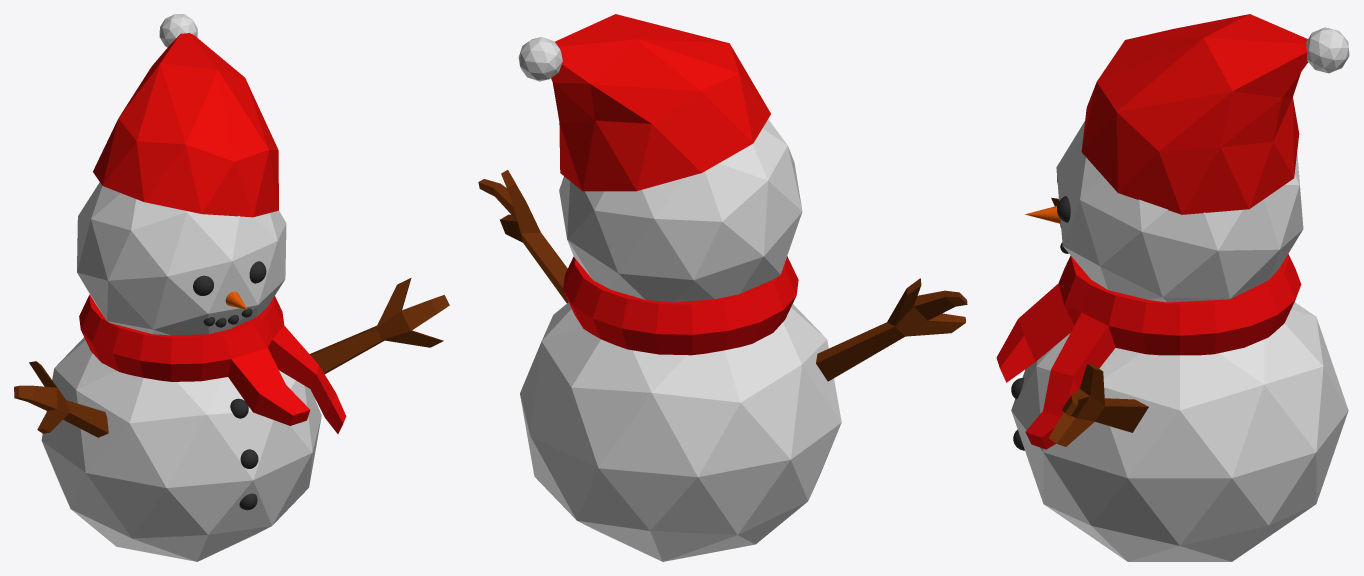
The model's file is snowman.fbx.
3 views of the same model, side by side, from view 1: azimuth 30°, elevation 25°; view 2: azimuth 150°, elevation 25°; view 3: azimuth 270°, elevation 25° (orthographic). The views are drawn at different scales.
Visible parts, largest first — view 1: Икосфера, Икосфера.002, Икосфера.001, Torus.002, Куб, Сфера.003, Икосфера.003; view 2: Икосфера, Икосфера.002, Икосфера.001, Torus.002, Куб, Икосфера.003; view 3: Икосфера, Икосфера.002, Икосфера.001, Torus.002, Куб, Икосфера.003, Сфера.003.
Boxes of the visible parts, <box> form: Икосфера: <box>41,337,321,561</box>; Икосфера.002: <box>93,33,278,217</box>; Икосфера.001: <box>77,182,286,335</box>; Torus.002: <box>79,294,346,433</box>; Куб: <box>14,278,449,437</box>; Сфера.003: <box>193,261,266,510</box>; Икосфера.003: <box>159,14,197,47</box>; Икосфера: <box>520,302,841,561</box>; Икосфера.002: <box>551,14,770,191</box>; Икосфера.001: <box>559,119,802,302</box>; Torus.002: <box>563,256,798,355</box>; Куб: <box>478,170,967,381</box>; Икосфера.003: <box>518,37,562,81</box>; Икосфера: <box>1011,302,1348,561</box>; Икосфера.002: <box>1081,14,1308,214</box>; Икосфера.001: <box>1056,121,1303,302</box>; Torus.002: <box>996,254,1301,449</box>; Куб: <box>1048,197,1148,446</box>; Икосфера.003: <box>1306,27,1349,73</box>; Сфера.003: <box>1011,177,1070,450</box>.
Size of the model in its own units: 347 by 364 by 209.
